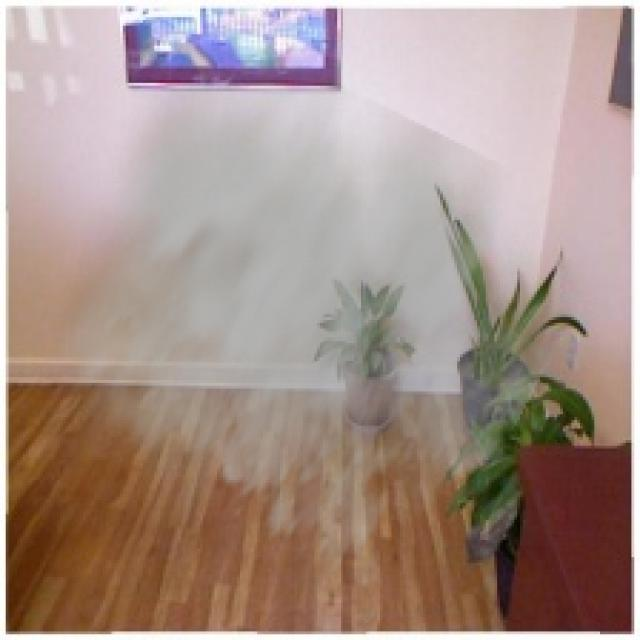smoke: (37, 20, 577, 577)
